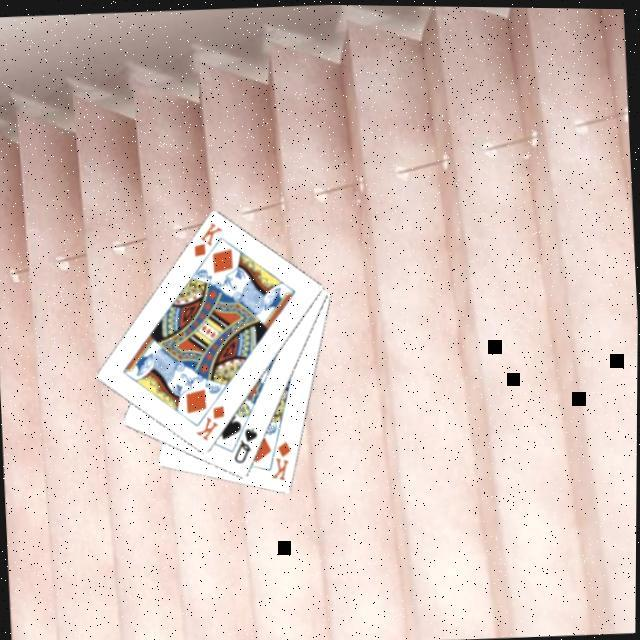KD: (194, 399, 232, 442), (192, 216, 228, 258), (270, 436, 298, 482)
QS: (231, 422, 264, 465)
